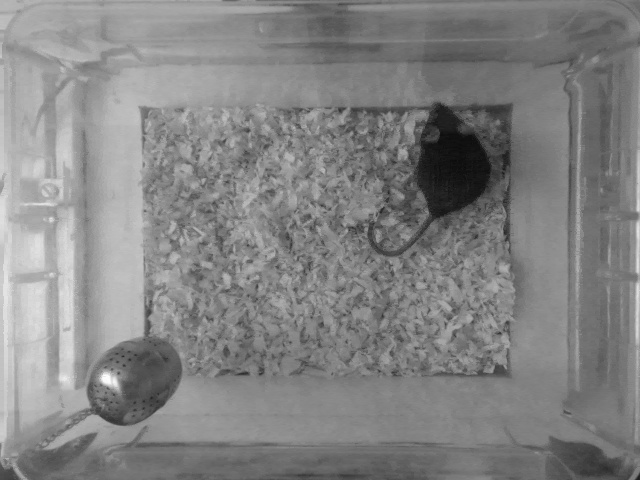mice: (362, 100, 494, 262)
